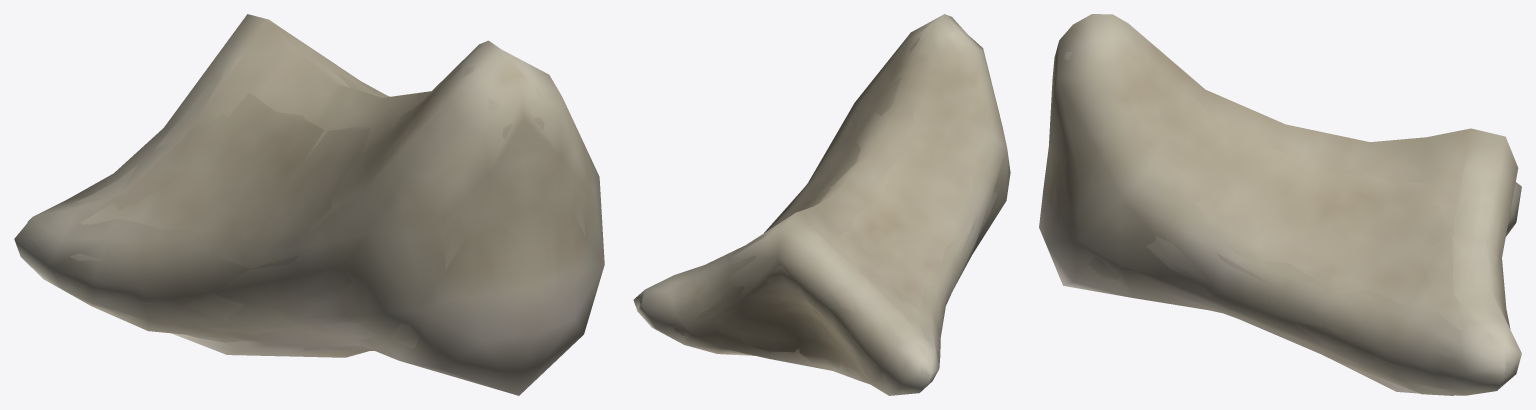
File: vertebrae caudales 03.fbx
3 renders of one model, left to right at view 1: azimuth 30°, elevation 25°; view 2: azimuth 150°, elevation 25°; view 3: azimuth 270°, elevation 25°, orthographic. The views are drawn at different scales.
Parts seen in each view (by area): view 1: vertebrae caudales 03, vertebrae caudales 03 high, vertebrae caudales 03 low; view 2: vertebrae caudales 03, vertebrae caudales 03 high, vertebrae caudales 03 low; view 3: vertebrae caudales 03, vertebrae caudales 03 high, vertebrae caudales 03 low.
Part boxes in pixels (x1,y1,x2,y2): vertebrae caudales 03: (14,14,604,395); vertebrae caudales 03 high: (70,66,585,351); vertebrae caudales 03 low: (17,14,602,391); vertebrae caudales 03: (633,14,1010,395); vertebrae caudales 03 high: (639,26,997,385); vertebrae caudales 03 low: (639,18,1006,395); vertebrae caudales 03: (1039,14,1521,395); vertebrae caudales 03 high: (1049,36,1509,390); vertebrae caudales 03 low: (1039,14,1520,395).
Bounding box in the file's own units: 1.21 × 1.07 × 1.33.
1 material, 1 textured.
